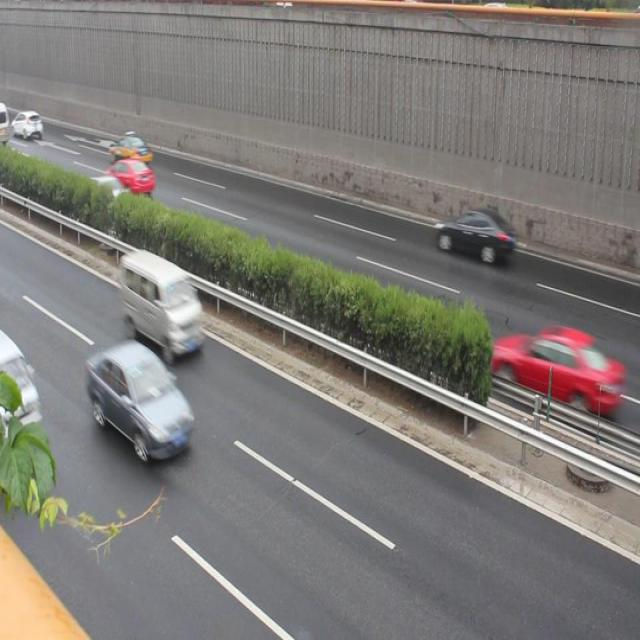car: (85, 340, 195, 459), (491, 326, 612, 422), (433, 204, 514, 263), (78, 175, 134, 220), (100, 157, 155, 193), (109, 132, 152, 170)
truck: (117, 247, 205, 357), (0, 330, 42, 474)
